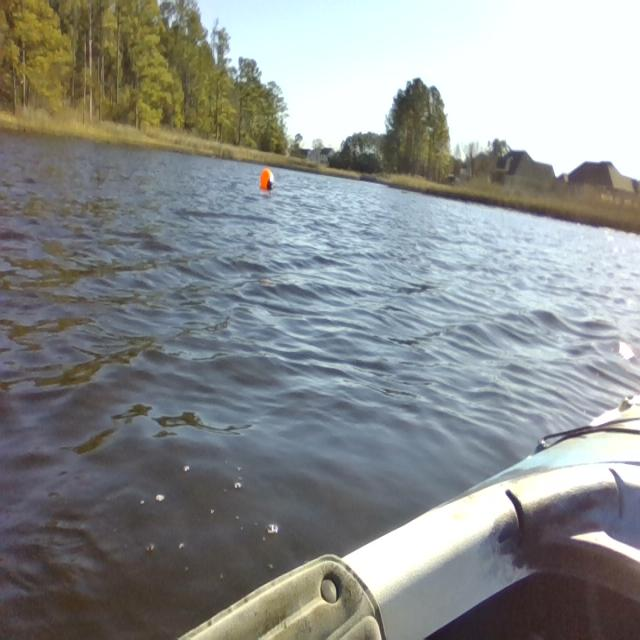Buoy: (253, 162, 279, 196)
